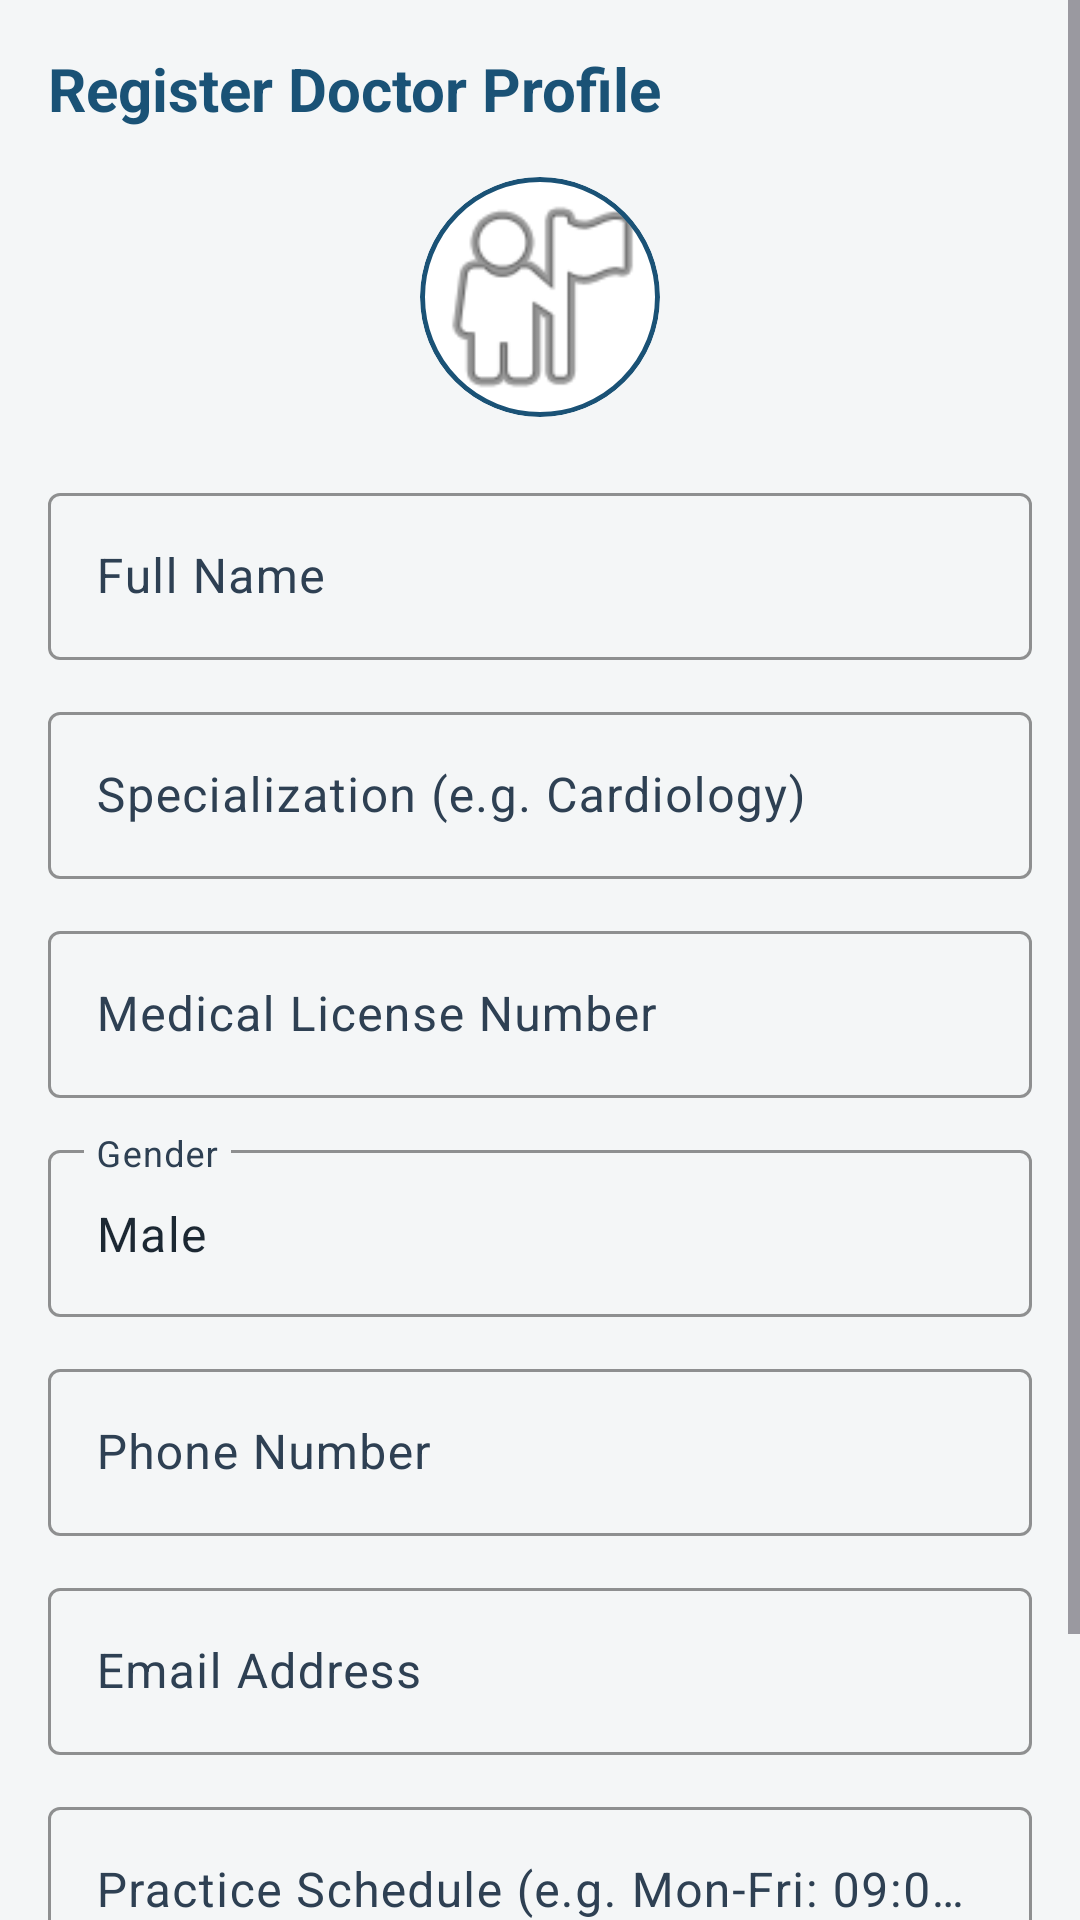

Screen size 1080×1920. Icon name, then its center in pixels as [x,y]:
Doctor photo preview: [540,297]
